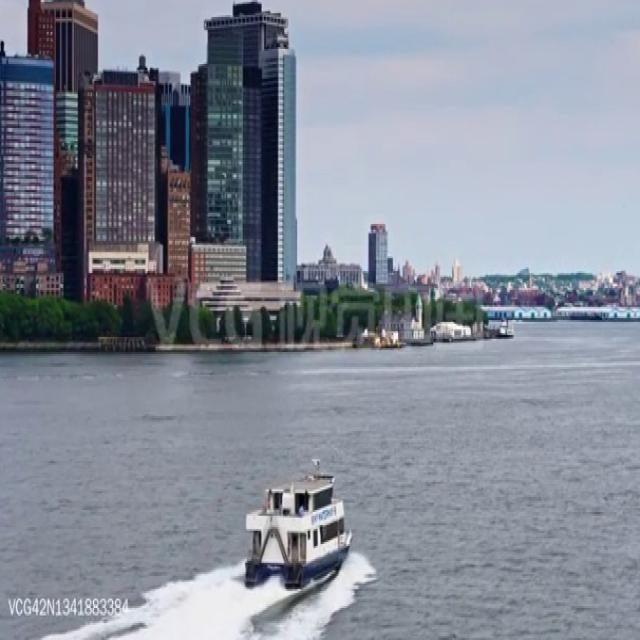houseboat: (238, 463, 352, 592)
